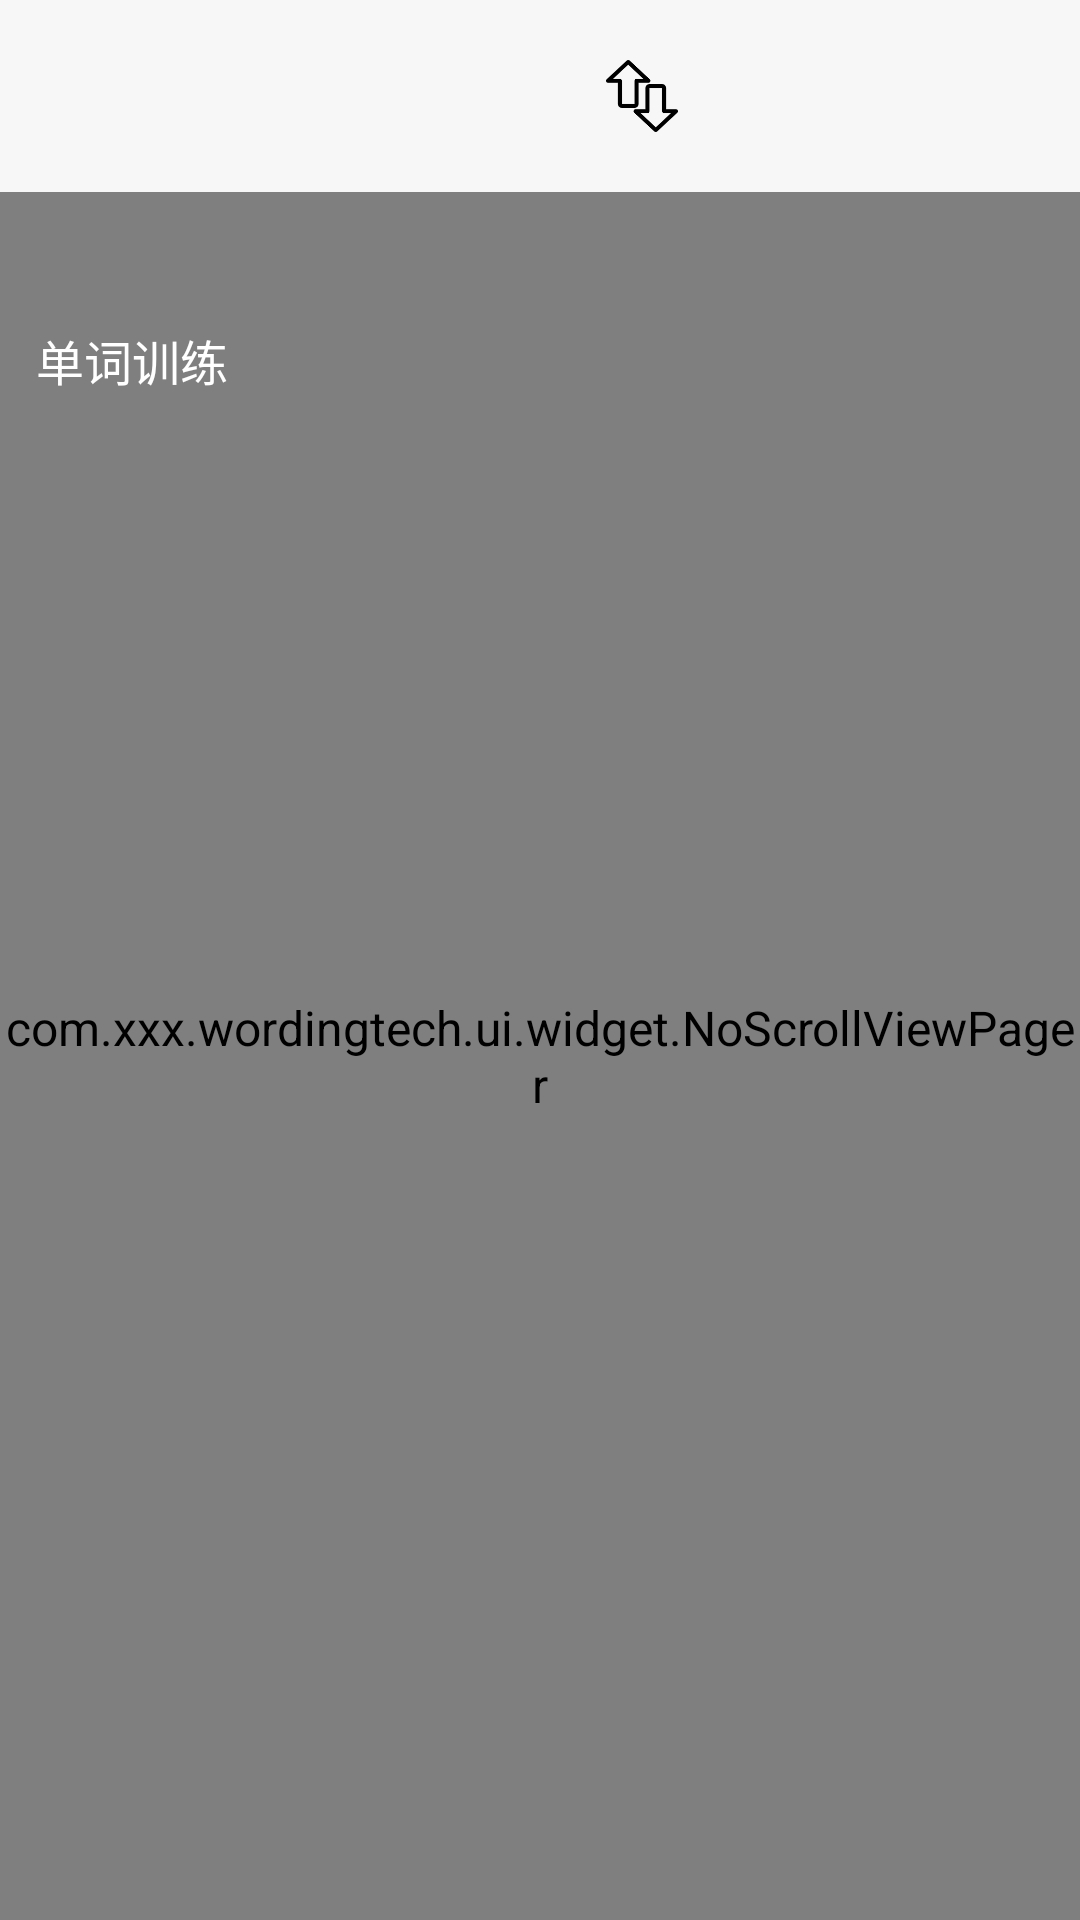

Locate icon controls on the screen. Image size 1080 × 1920, boxes as (x1, y1, x2, y2).
change: (606, 60, 678, 132)
